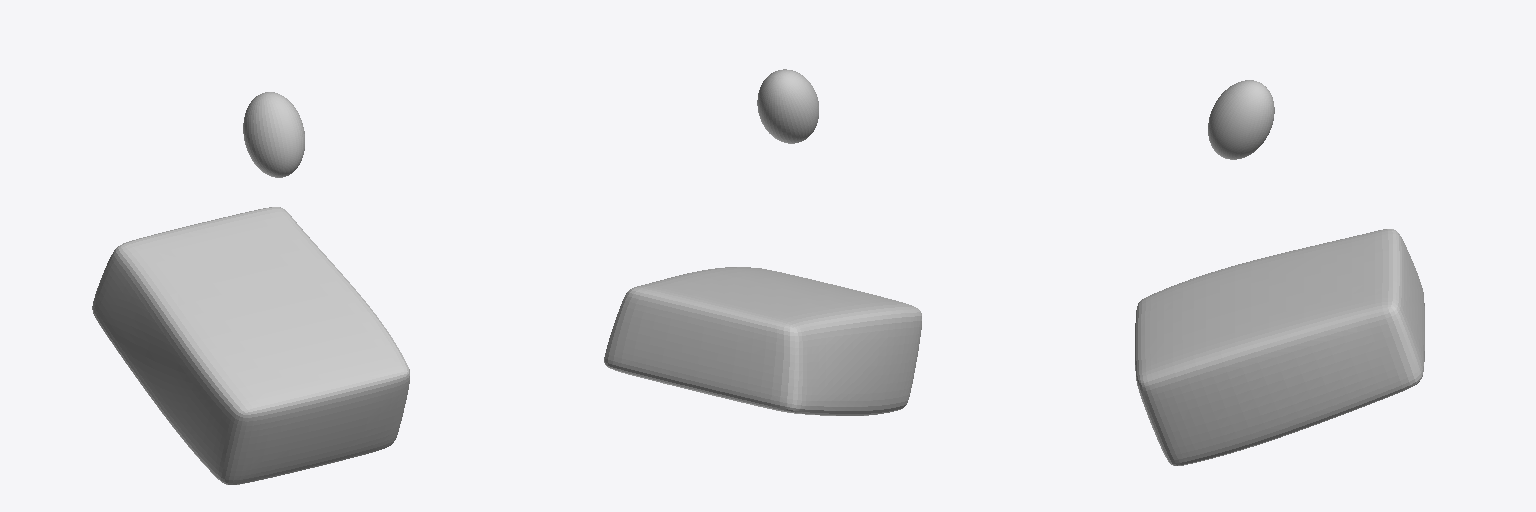
File: headred.obj
3 renders of one model, left to right at view 1: azimuth 30°, elevation 25°; view 2: azimuth 150°, elevation 25°; view 3: azimuth 270°, elevation 25°, orthographic.
Visible parts, largest first — view 1: head:MeshpolySurface44, head:MeshpolySurface43; view 2: head:MeshpolySurface44, head:MeshpolySurface43; view 3: head:MeshpolySurface44, head:MeshpolySurface43.
Part boxes in pixels (x1,y1,x2,y2): head:MeshpolySurface44: (92,207,409,484); head:MeshpolySurface43: (243,92,304,177); head:MeshpolySurface44: (604,267,921,415); head:MeshpolySurface43: (757,69,818,143); head:MeshpolySurface44: (1135,229,1424,465); head:MeshpolySurface43: (1208,80,1274,159).
Size of the model in its own units: 0.2354 by 0.3954 by 0.3001.